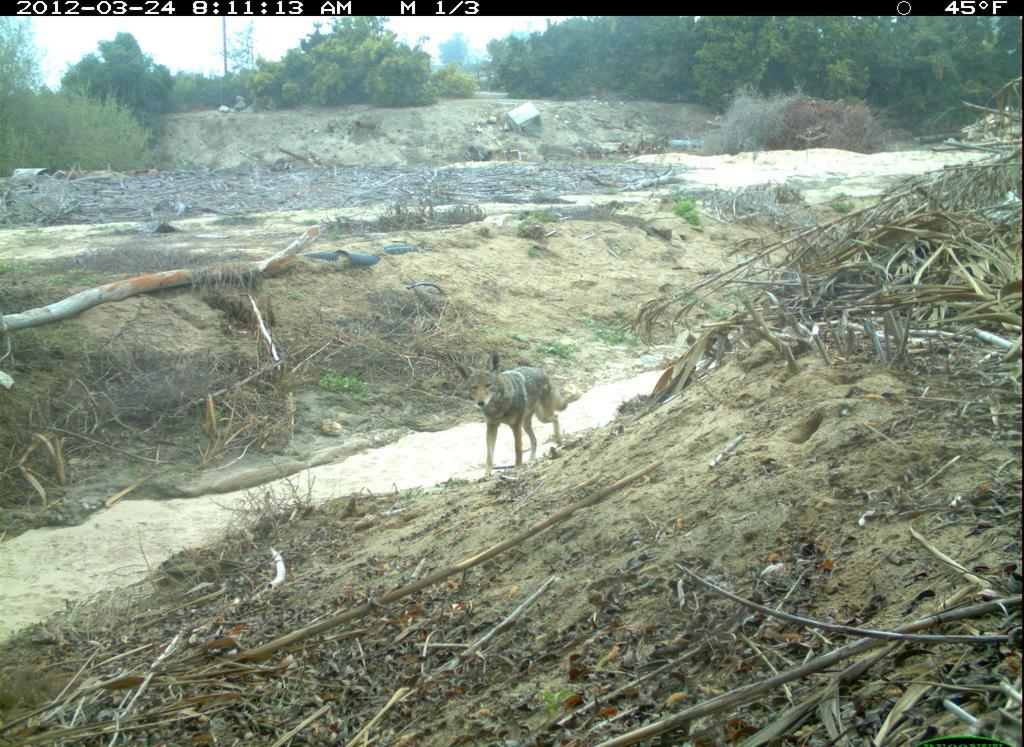coyote: (452, 345, 589, 483)
